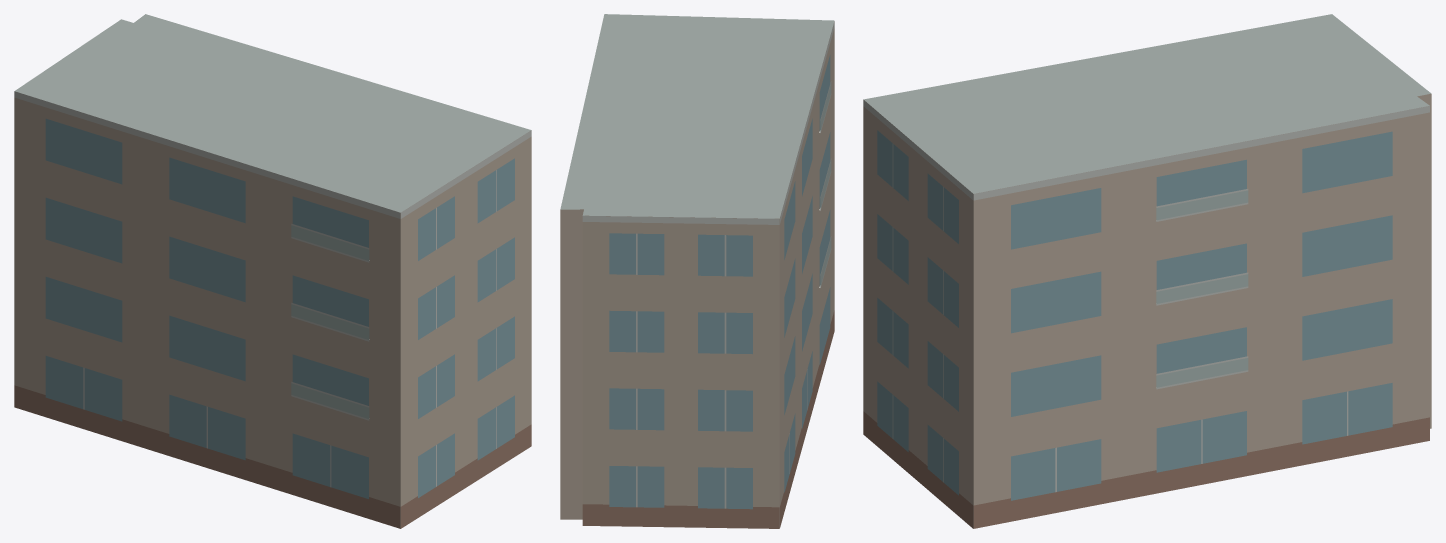
The model's file is survey-upis-32577657.glb.
The picture shows the model from 3 angles, left to right: view 1: azimuth 30°, elevation 25°; view 2: azimuth 150°, elevation 25°; view 3: azimuth 270°, elevation 25°; orthographic projection. The views are drawn at different scales.
Visible parts, largest first — view 1: survey-upis-32577657.tmp; view 2: survey-upis-32577657.tmp; view 3: survey-upis-32577657.tmp.
Boxes of the visible parts, <box> form: survey-upis-32577657.tmp: <box>14,14,531,528</box>; survey-upis-32577657.tmp: <box>560,14,834,528</box>; survey-upis-32577657.tmp: <box>863,14,1431,528</box>.
Bounding box in the file's own units: 14.06 × 12.2 × 18.77.
